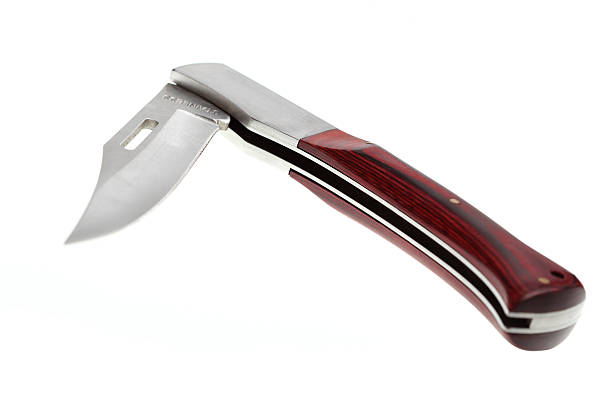knife: (59, 80, 234, 248)
